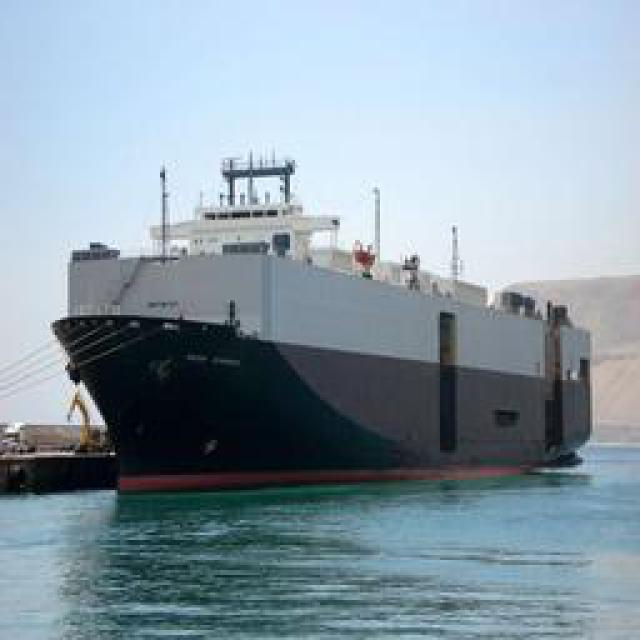Ship: (47, 163, 600, 488)
